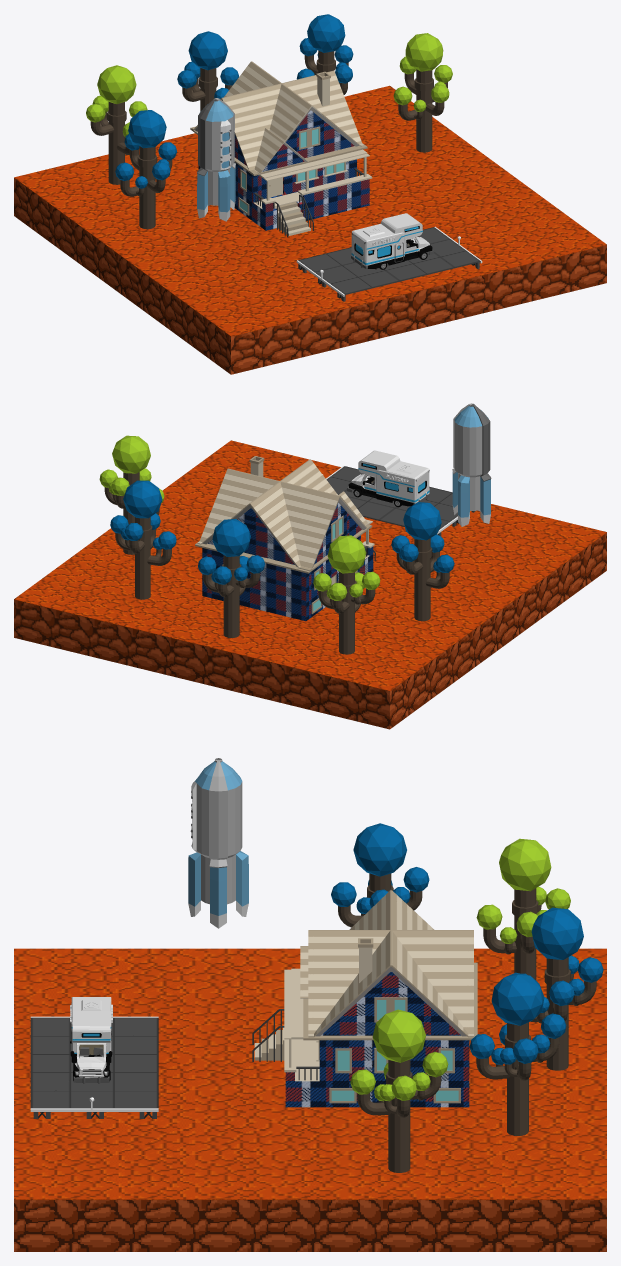
The picture shows the model from 3 angles, top to bottom: view 1: azimuth 30°, elevation 25°; view 2: azimuth 150°, elevation 25°; view 3: azimuth 270°, elevation 25°; orthographic projection. The views are drawn at different scales.
Visible parts, largest first — view 1: Cube.001, Cube.171, OBJRANDOM_ROCKETSHIP, VEHICLES_CAMPER; view 2: Cube.001, Cube.171, OBJRANDOM_ROCKETSHIP, VEHICLES_CAMPER; view 3: Cube.001, Cube.171, OBJRANDOM_ROCKETSHIP, VEHICLES_CAMPER.
Boxes of the visible parts, x1,y1,x2,y2 form: Cube.001: (14, 14, 606, 374); Cube.171: (190, 61, 372, 236); OBJRANDOM_ROCKETSHIP: (197, 98, 235, 221); VEHICLES_CAMPER: (351, 213, 434, 269); Cube.001: (14, 435, 606, 729); Cube.171: (195, 456, 375, 621); OBJRANDOM_ROCKETSHIP: (452, 403, 491, 526); VEHICLES_CAMPER: (347, 450, 430, 507); Cube.001: (14, 823, 606, 1251); Cube.171: (252, 890, 477, 1107); OBJRANDOM_ROCKETSHIP: (188, 758, 248, 928); VEHICLES_CAMPER: (70, 997, 112, 1083).
Size of the model in its own units: 4000 by 2154 by 4000.
Materials: 32 (5 with a texture image).
